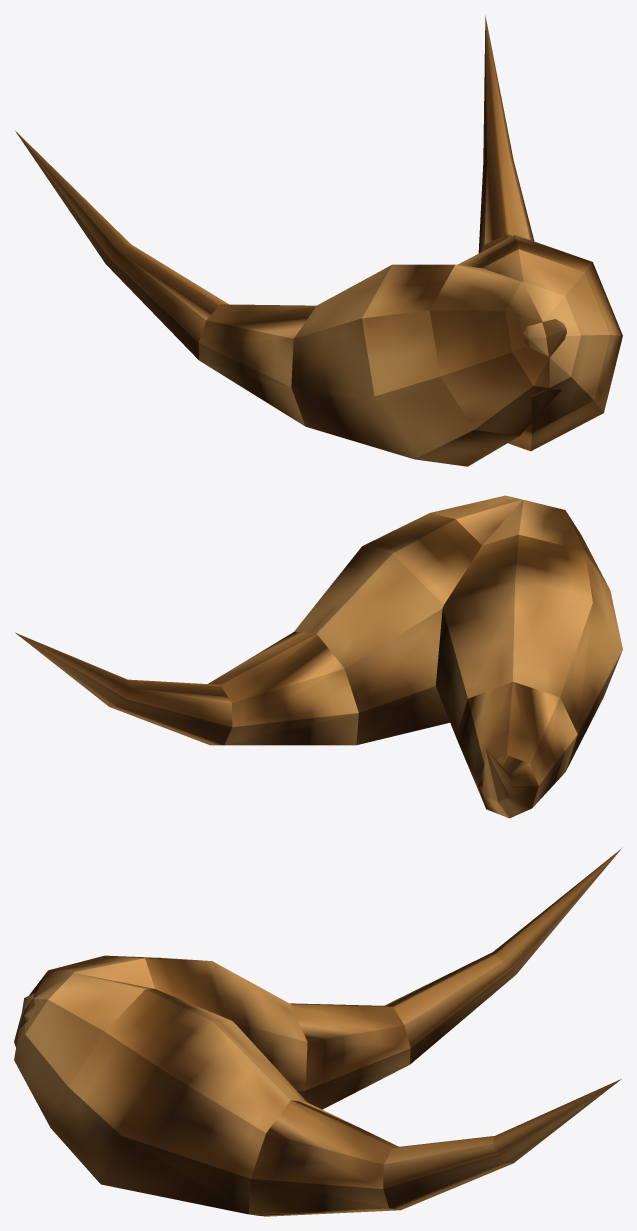
The model's file is hair_female_02.dae.
3 views of the same model, one above another, from view 1: azimuth 30°, elevation 25°; view 2: azimuth 150°, elevation 25°; view 3: azimuth 270°, elevation 25° (orthographic).
Visible parts, largest first — view 1: a_hair_female_02; view 2: a_hair_female_02; view 3: a_hair_female_02.
Boxes of the visible parts, bbox=[...] form: a_hair_female_02: bbox=[15, 15, 622, 466]; a_hair_female_02: bbox=[15, 495, 622, 818]; a_hair_female_02: bbox=[14, 847, 622, 1216].
Bounding box in the file's own units: 0.8248 × 0.9182 × 0.3462.
